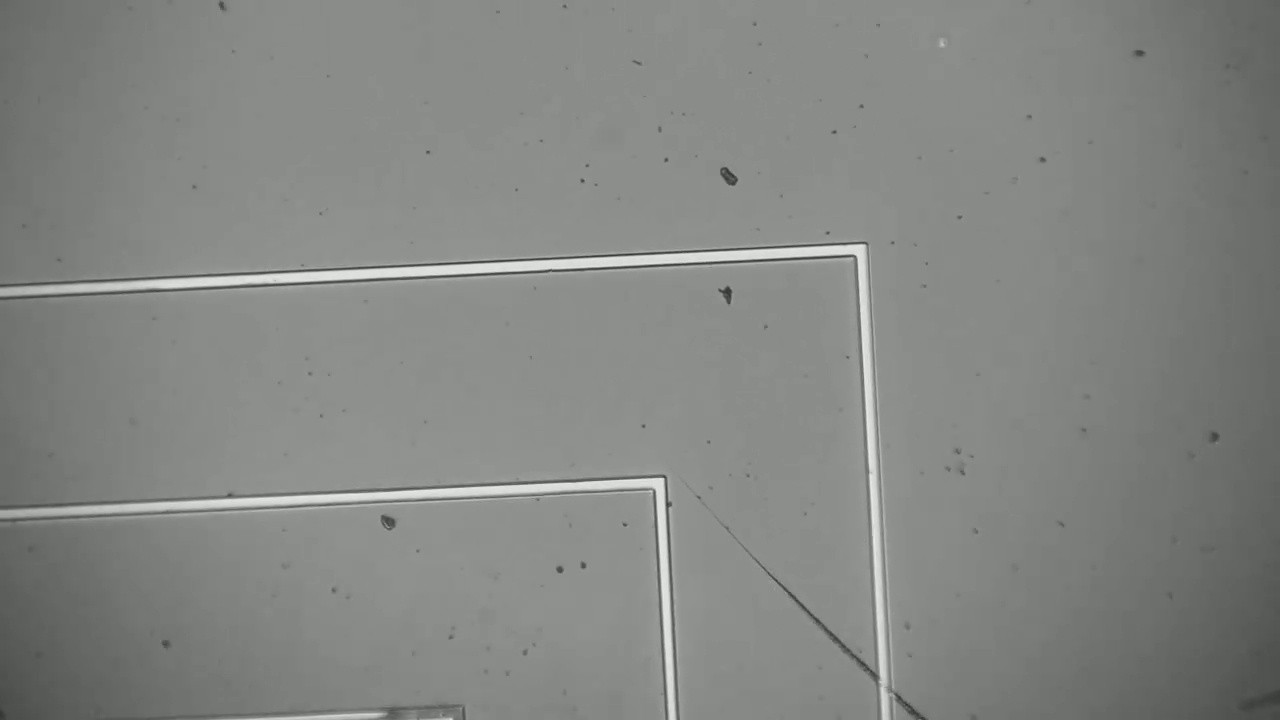gray_line: (364, 688, 476, 719)
scratch: (677, 477, 934, 719)
